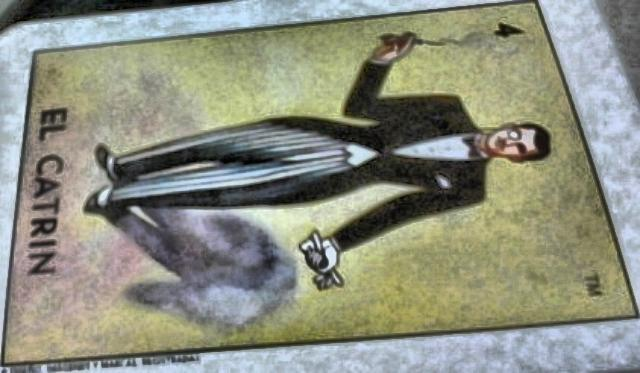El Catrin: (3, 0, 638, 365)
